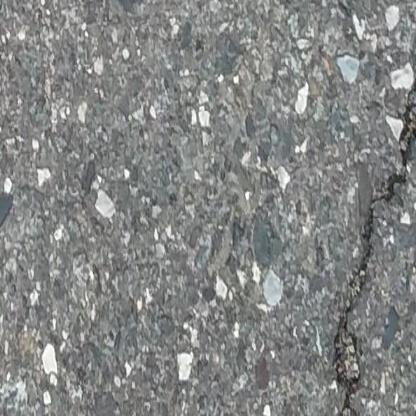Cracks: (334, 68, 416, 416)
